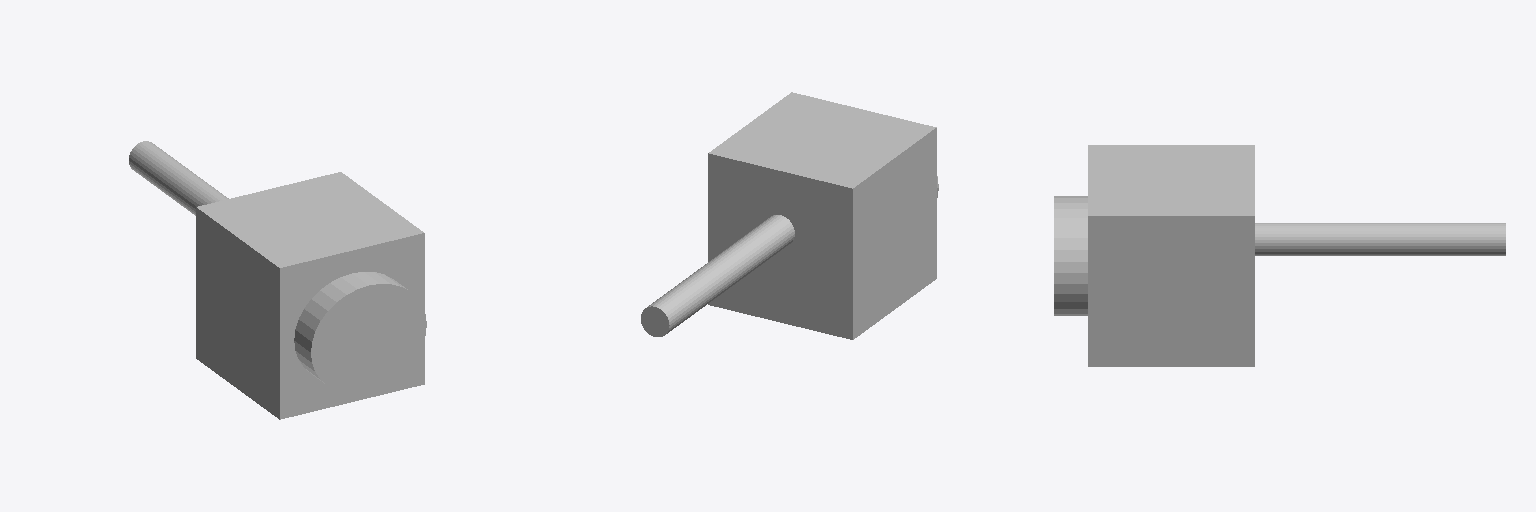
File: propellershape1.obj
3 views of the same model, side by side, from view 1: azimuth 30°, elevation 25°; view 2: azimuth 150°, elevation 25°; view 3: azimuth 270°, elevation 25° (orthographic).
Visible parts, largest first — view 1: Cylinder.001; view 2: Cylinder.001; view 3: Cylinder.001.
Boxes of the visible parts, box(x1,y1,x2,y2) form: Cylinder.001: box(129, 141, 426, 419); Cylinder.001: box(641, 92, 938, 339); Cylinder.001: box(1054, 145, 1505, 366).
Size of the model in its own units: 2 by 2 by 5.4.